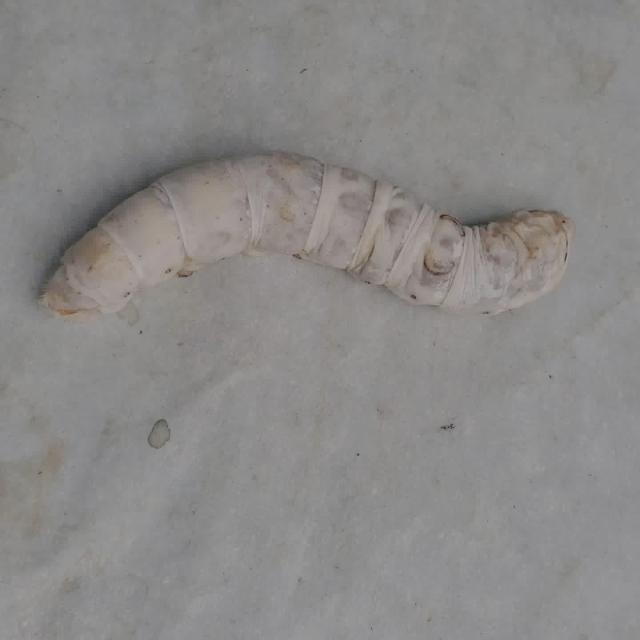Grasserie: (20, 120, 604, 367)
